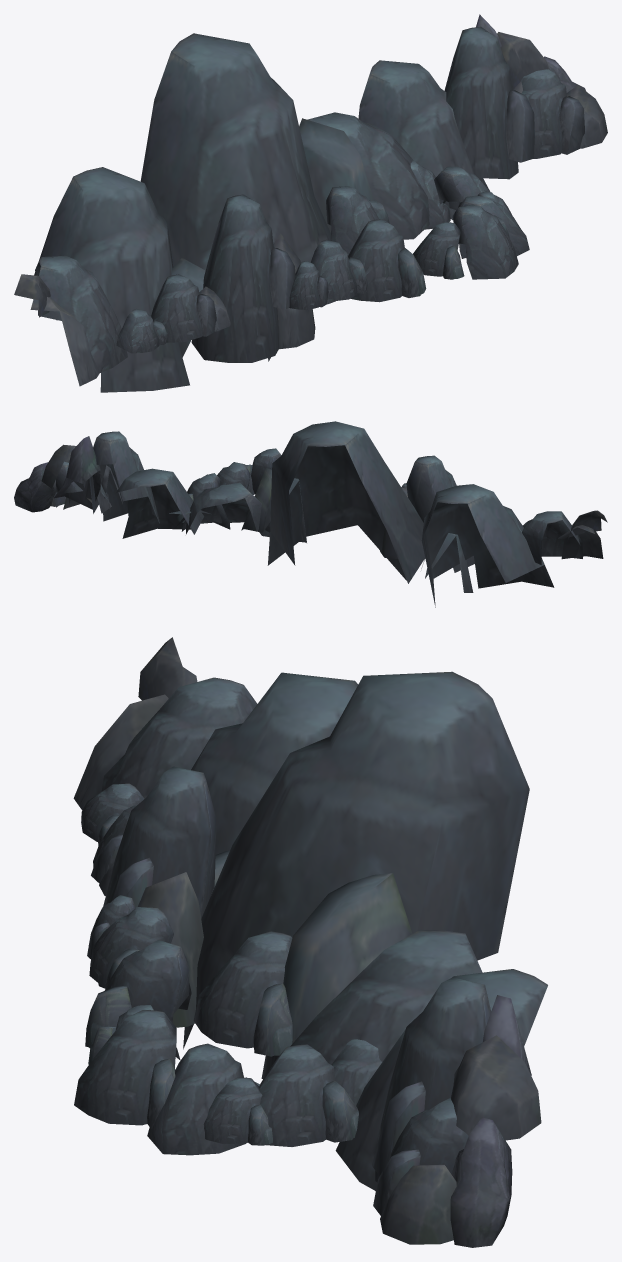
Rendered from Area_06_6.fbx.
3 views of the same model, one above another, from view 1: azimuth 30°, elevation 25°; view 2: azimuth 150°, elevation 25°; view 3: azimuth 270°, elevation 25° (orthographic). The views are drawn at different scales.
Parts seen in each view (by area): view 1: Area_06_6; view 2: Area_06_6; view 3: Area_06_6.
Boxes of the visible parts, <box> form: Area_06_6: <box>14,14,607,392</box>; Area_06_6: <box>14,421,607,607</box>; Area_06_6: <box>73,637,547,1247</box>.
Bounding box in the file's own units: 15372 × 5477 × 6163.
